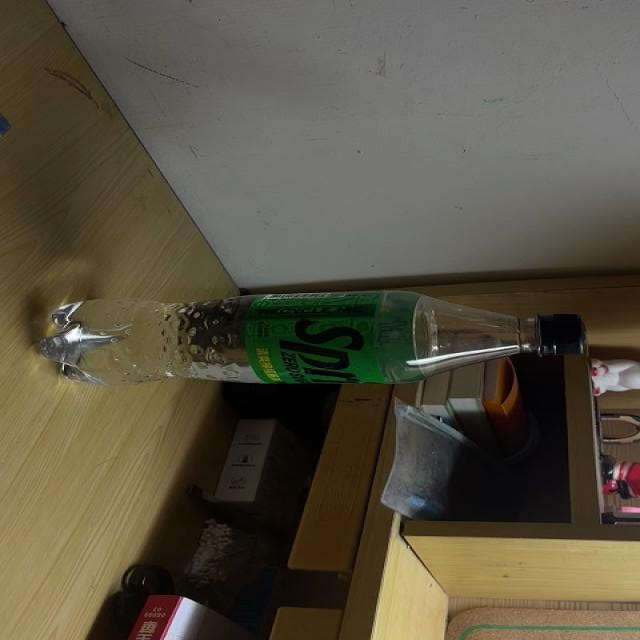Sprite: (29, 288, 586, 384)
